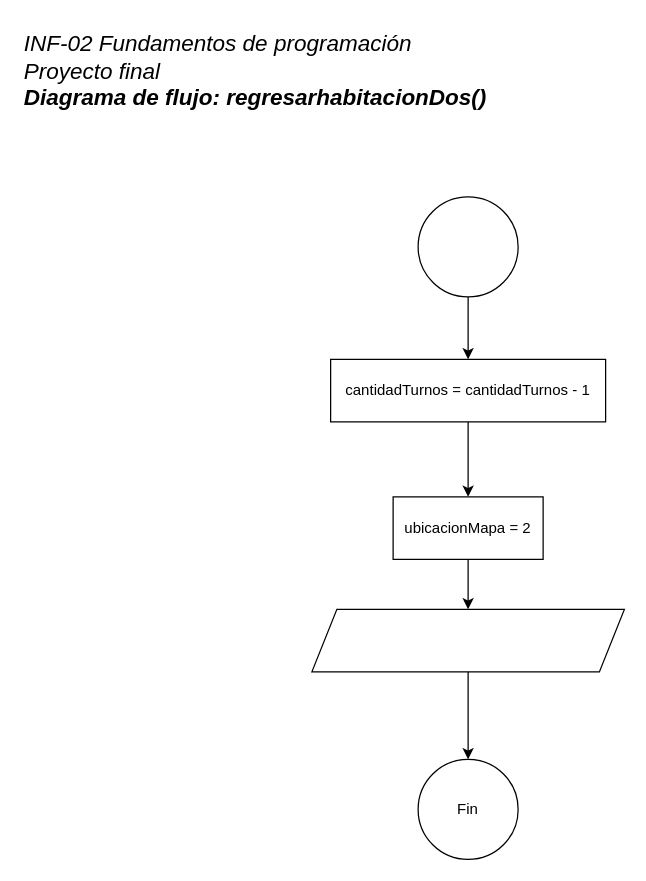
Image size: 646x881. Some labels were removed from this diagram. The shapes that lost their labels are listed below. From the top down, each one's box as (x1, y1, x2, y2) in pixels, then its label:
(417, 196, 518, 297): Inicio
(311, 608, 624, 672): Imprimir "Regresaste a la habitación #2"
